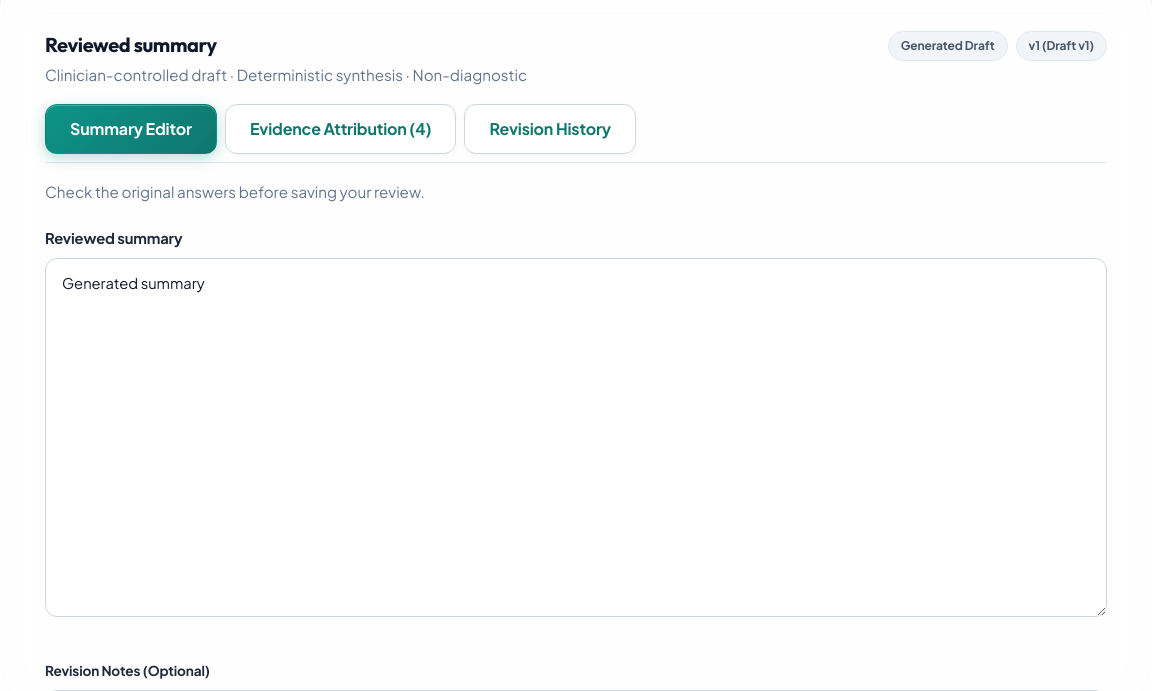
Scenario: evidence-linked clinical summary › renders source badges, conflict, safety rule, and coverage without fake confidence
Click the button "Evidence Attribution (4)" at (341, 129), box [225, 104, 456, 154]
(page scrolled)
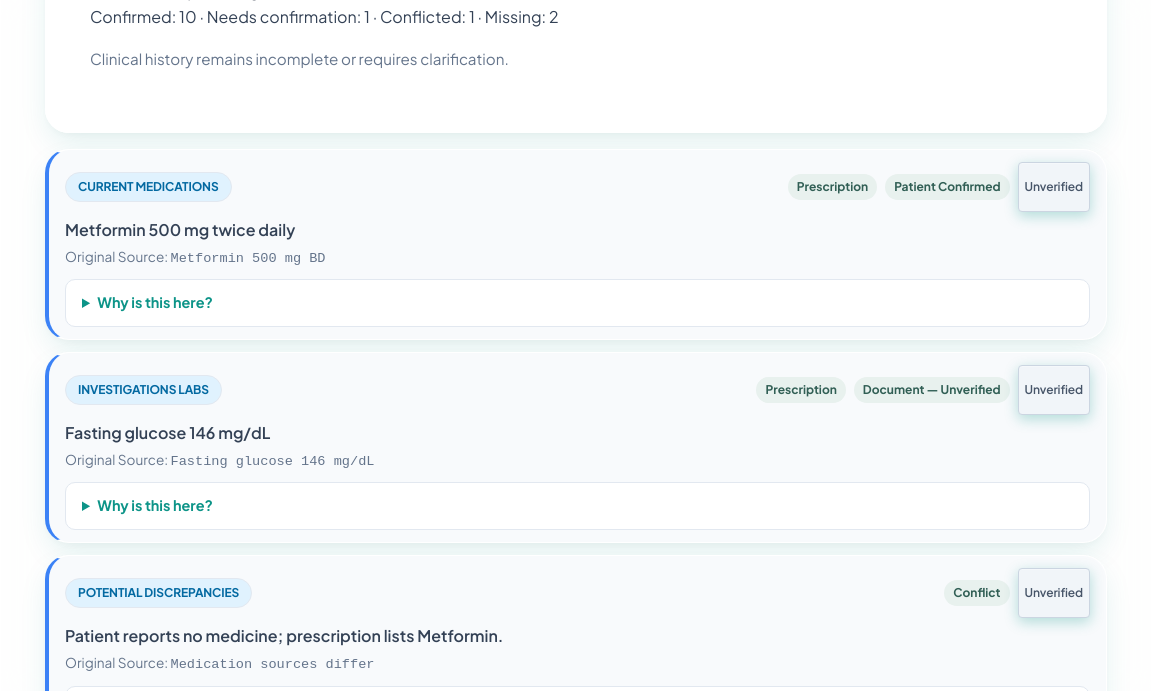
Check: the text "Patient Confirmed" is shown, box [885, 174, 1010, 200]
Check: the text "Document — Unverified" is shown, box [854, 377, 1010, 403]
Check: the text "Conflict" is shown, box [944, 580, 1010, 606]
